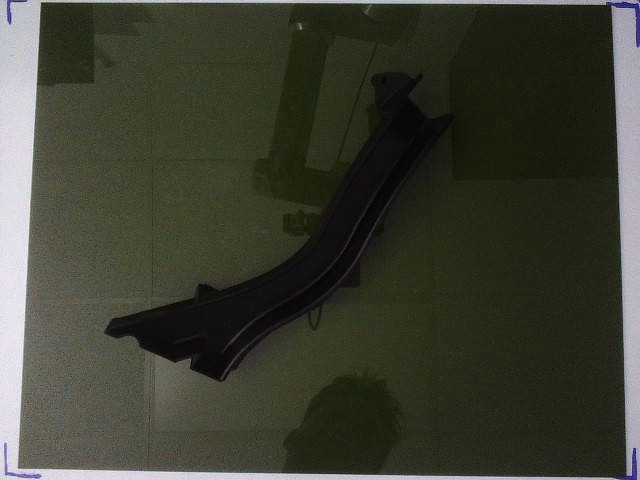887_A-Under: (103, 72, 454, 379)
